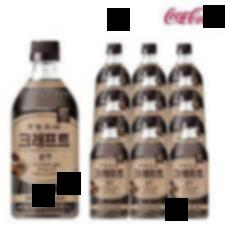georgiacraft_black: (4, 36, 84, 220), (170, 114, 210, 222), (88, 115, 128, 221), (130, 114, 167, 222)
